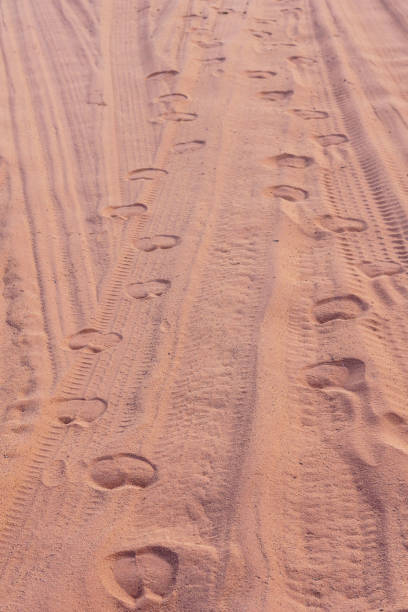animal_foot_print: (107, 546, 178, 608), (89, 453, 156, 489), (305, 358, 365, 390), (313, 294, 367, 323), (55, 398, 106, 426), (67, 328, 121, 352), (3, 399, 40, 433), (378, 411, 407, 453), (318, 214, 367, 232), (127, 279, 170, 298), (264, 153, 314, 169), (134, 234, 180, 251), (102, 203, 146, 220), (264, 185, 308, 201), (41, 459, 66, 487), (360, 261, 402, 277), (128, 167, 167, 180), (315, 133, 348, 147), (158, 110, 197, 121), (258, 89, 293, 101), (290, 108, 328, 119), (173, 139, 205, 152), (146, 69, 178, 79), (157, 92, 189, 102), (288, 55, 316, 66), (244, 70, 276, 79), (193, 39, 223, 48), (198, 56, 226, 64), (250, 30, 272, 39)
